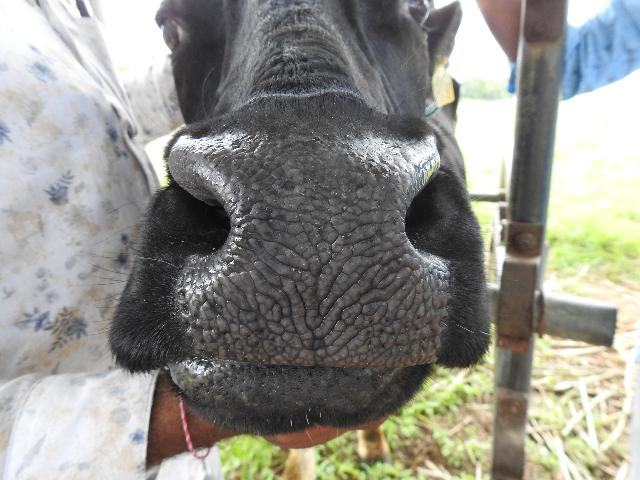Muzzle: (182, 142, 444, 364)
